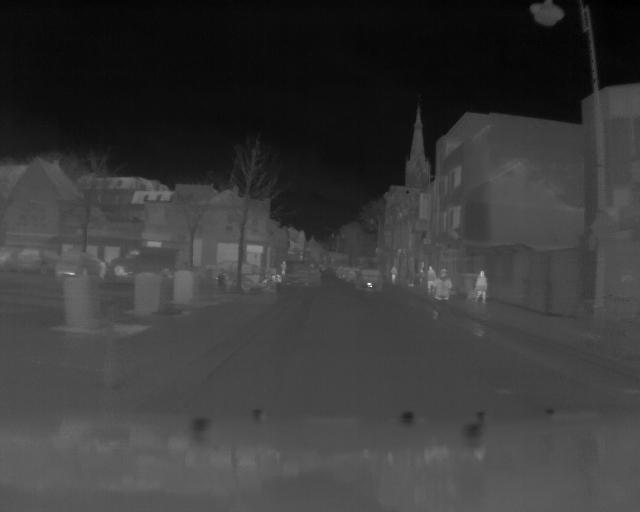car: (353, 268, 384, 292)
person: (431, 268, 454, 323), (473, 268, 489, 310), (388, 264, 398, 287)
